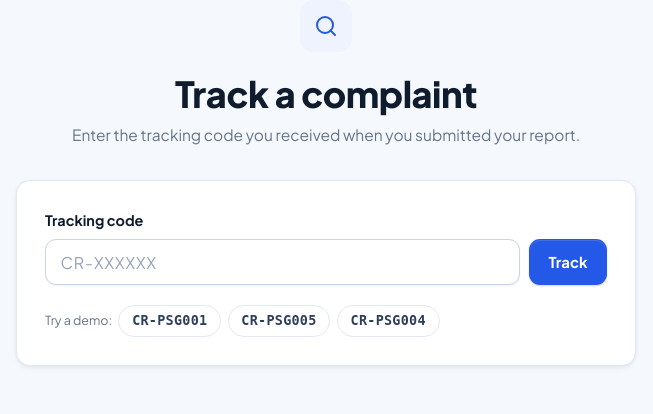
Test: TrackPage › validates the tracking code format
Type "hello" into the field labelled "Tracking code". click: (282, 262)
box: x1=45 y1=239 x2=520 y2=285
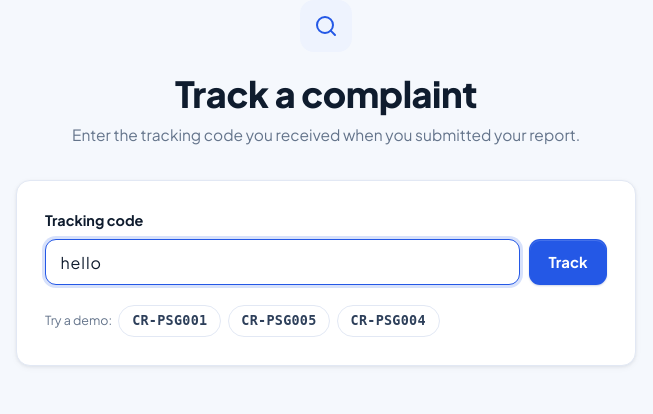
Click the button "Track". click: (568, 262)
box: x1=529 y1=239 x2=607 y2=285
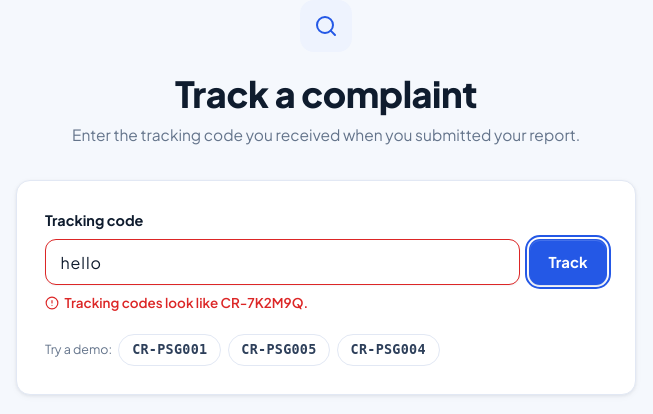
Check: the text "Tracking codes look like CR-7K2M9Q." is shown, box x1=45 y1=294 x2=308 y2=311
